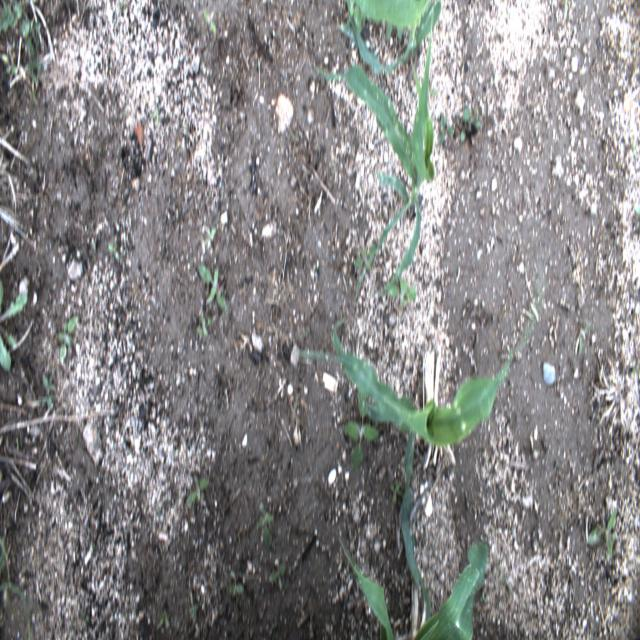crop: (314, 6, 434, 297), (296, 314, 538, 446), (338, 427, 487, 638), (335, 0, 441, 72)
weed: (0, 533, 30, 639), (343, 387, 380, 472), (0, 279, 30, 373), (589, 510, 617, 561), (198, 264, 226, 312), (1, 1, 31, 38), (57, 313, 78, 360), (256, 503, 276, 552), (458, 105, 482, 144), (388, 278, 417, 308), (382, 0, 401, 40), (353, 245, 378, 272), (268, 560, 288, 593), (186, 478, 210, 505), (347, 0, 362, 39), (437, 112, 455, 144), (26, 42, 44, 72), (226, 570, 246, 596), (25, 20, 41, 49), (196, 313, 213, 339), (574, 323, 586, 356), (203, 7, 217, 35), (2, 54, 18, 76), (389, 480, 402, 507), (42, 369, 52, 402), (77, 603, 91, 623), (157, 611, 170, 632), (108, 240, 120, 262), (205, 226, 217, 245), (150, 105, 160, 127), (292, 393, 299, 415), (188, 602, 199, 614), (290, 130, 300, 142), (270, 619, 278, 632), (631, 138, 637, 154), (479, 592, 486, 604), (16, 434, 20, 450)
